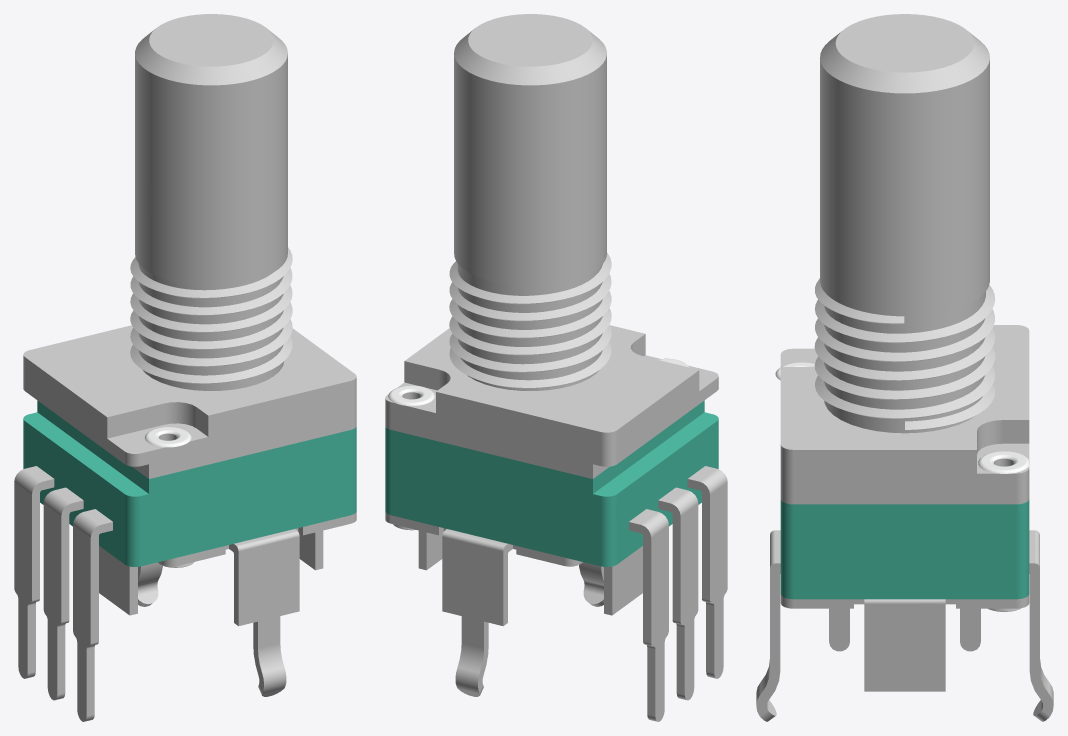
File: pot_RD901F_6.35mm_shaft_alpha_9mm_vertical.glb
3 views of the same model, side by side, from view 1: azimuth 30°, elevation 25°; view 2: azimuth 150°, elevation 25°; view 3: azimuth 270°, elevation 25° (orthographic). The views are drawn at different scales.
Visible parts, largest first — view 1: Solid2, Solid5, Solid1, Solid3; view 2: Solid2, Solid5, Solid1, Solid3; view 3: Solid2, Solid5, Solid1, Solid3.
Boxes of the visible parts, x1,y1,x2,y2 form: Solid2: (14, 247, 356, 721); Solid5: (135, 14, 287, 285); Solid1: (23, 400, 356, 566); Solid3: (145, 426, 193, 567); Solid2: (385, 253, 727, 721); Solid5: (454, 14, 606, 285); Solid1: (385, 400, 718, 566); Solid3: (388, 358, 689, 530); Solid2: (756, 278, 1053, 721); Solid5: (820, 14, 989, 316); Solid1: (780, 499, 1029, 599); Solid3: (775, 362, 1029, 611).
Bounding box in the file's own units: 0.0124 × 0.0291 × 0.0114.
